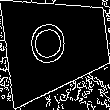O_E: (34, 20, 80, 71)
